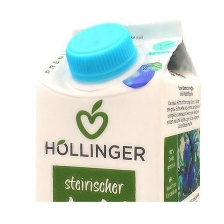carton: (33, 18, 207, 206)
